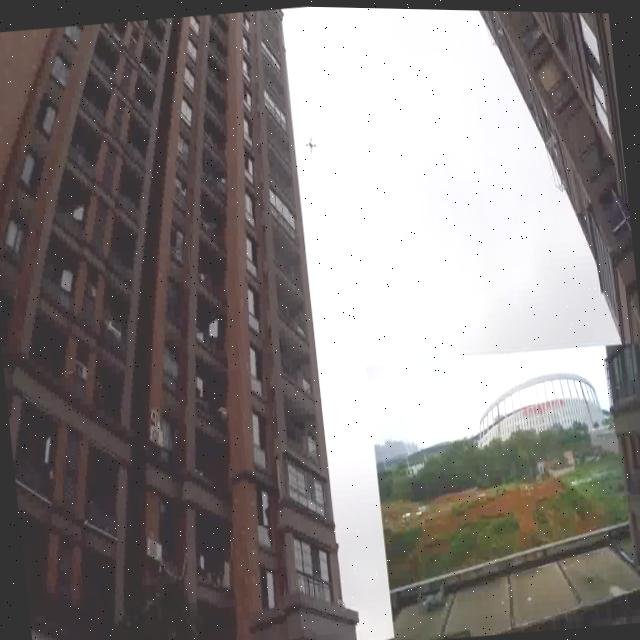drone: (302, 129, 320, 157)
